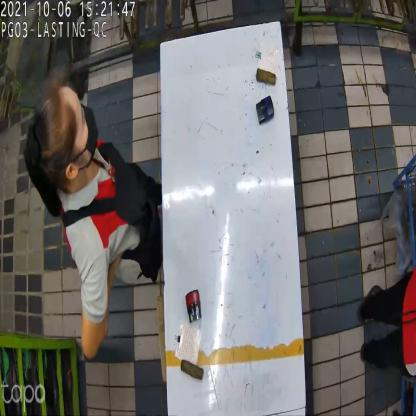stamp: (184, 291, 203, 326), (255, 95, 275, 128)
